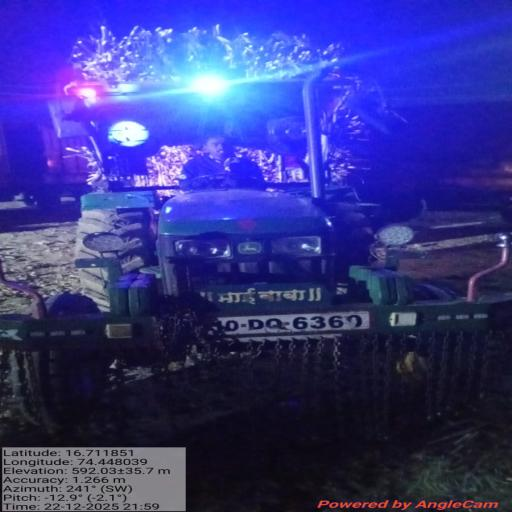number_plate: (219, 312, 369, 335)
